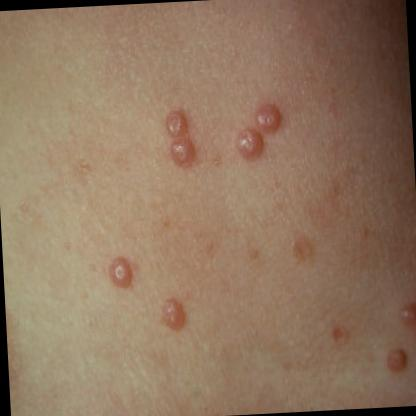Warts: (161, 102, 195, 174), (229, 119, 270, 166), (157, 292, 190, 340), (108, 246, 135, 296), (385, 341, 412, 381), (252, 102, 286, 132), (399, 296, 416, 331)
